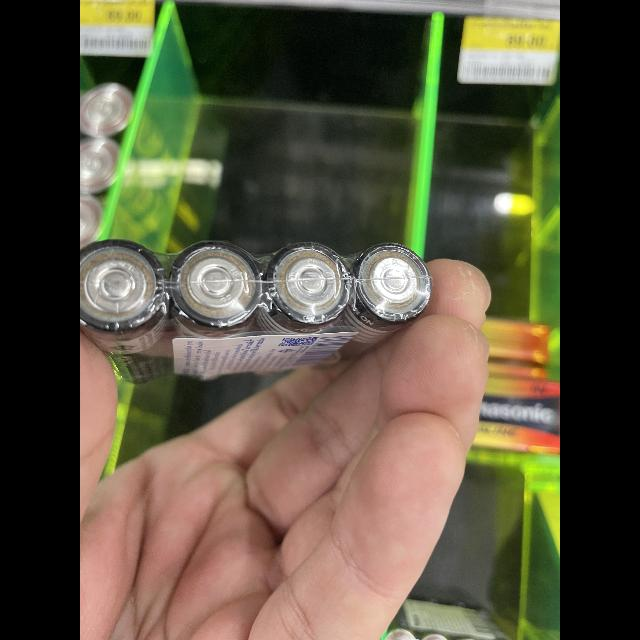battery: (80, 225, 180, 402), (336, 229, 440, 341), (261, 234, 351, 346), (163, 237, 251, 343)
